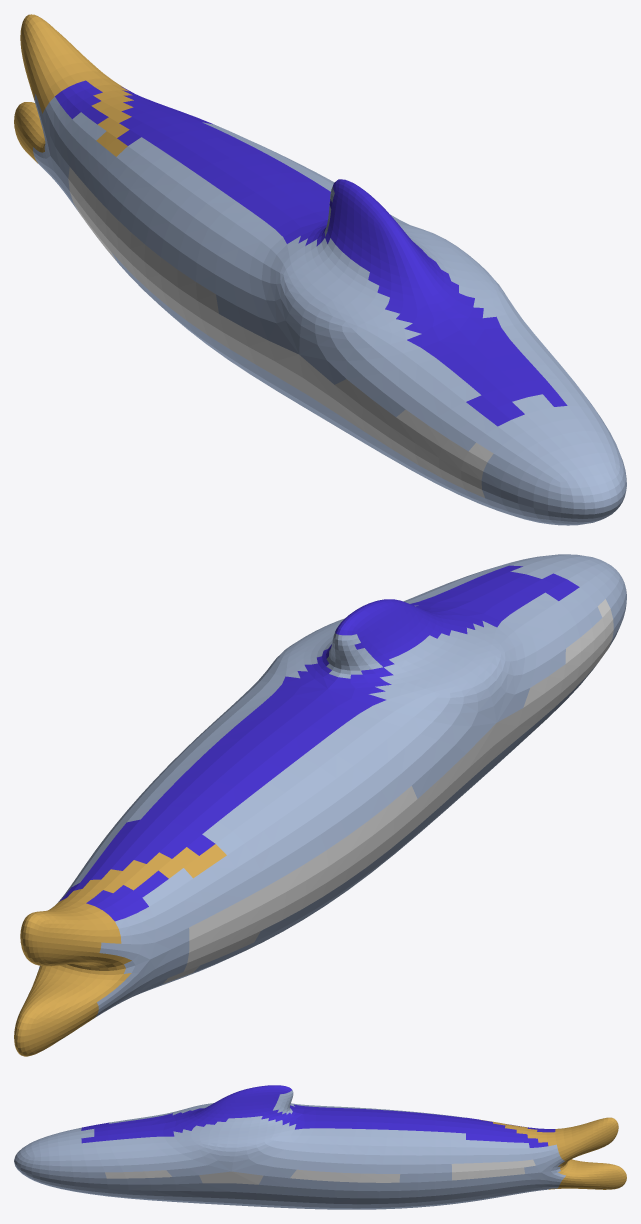
The model's file is iwashi.dae.
3 views of the same model, one above another, from view 1: azimuth 30°, elevation 25°; view 2: azimuth 150°, elevation 25°; view 3: azimuth 270°, elevation 25° (orthographic). The views are drawn at different scales.
Visible parts, largest first — view 1: iwashi; view 2: iwashi; view 3: iwashi.
Part boxes in pixels (box(x1,y1,x2,y2)): iwashi: box(14, 14, 626, 525); iwashi: box(14, 554, 626, 1056); iwashi: box(14, 1085, 626, 1209).
Bounding box in the file's own units: 0.2534 × 1.29 × 0.2713.
